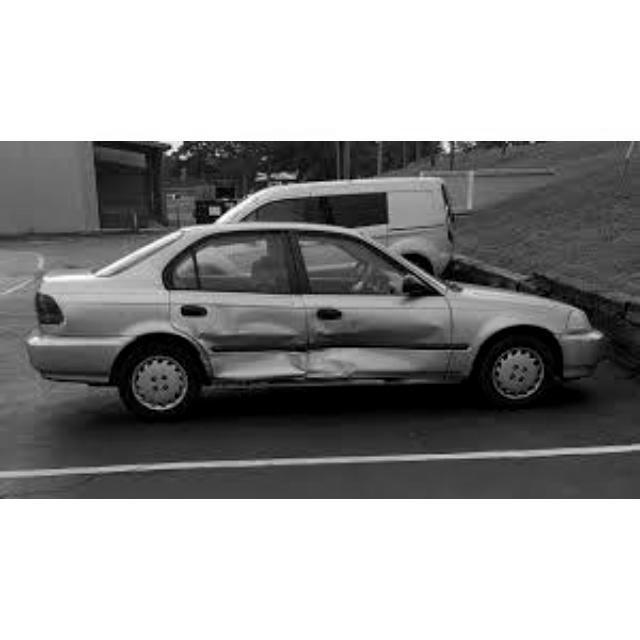Runningboard-Damage: (312, 372, 448, 389), (207, 378, 311, 392)
doorouter-dent: (308, 289, 453, 376), (169, 290, 307, 375)
